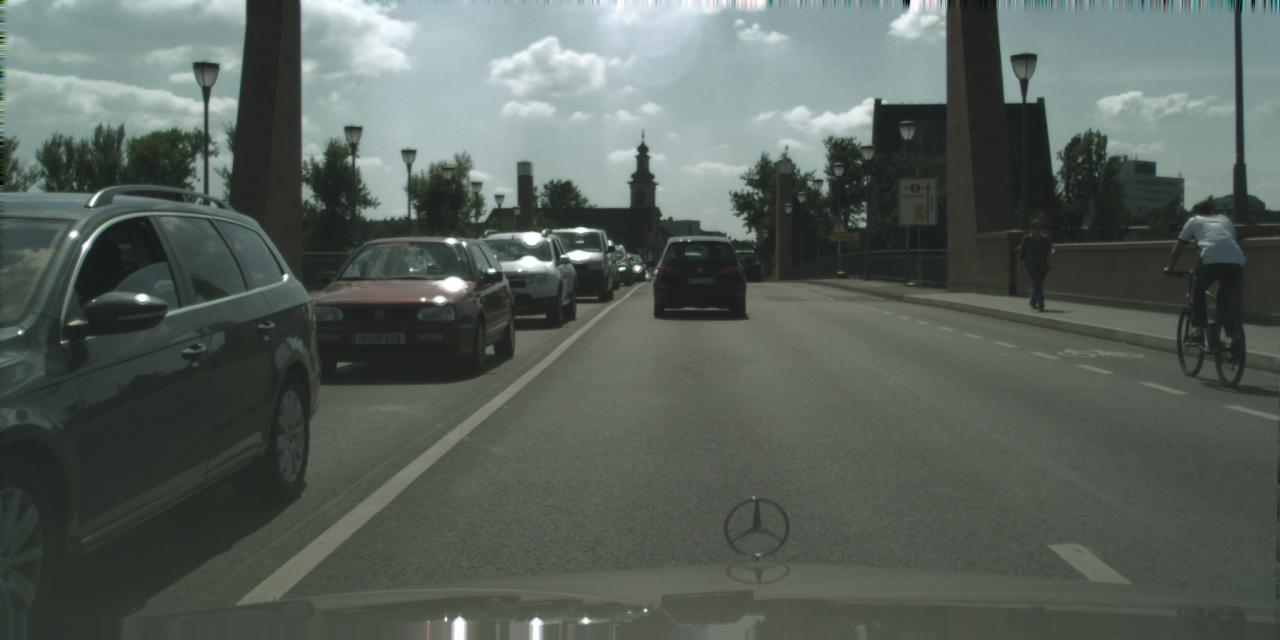ped: (1178, 200, 1240, 352), (1019, 219, 1056, 309), (344, 241, 364, 292)
